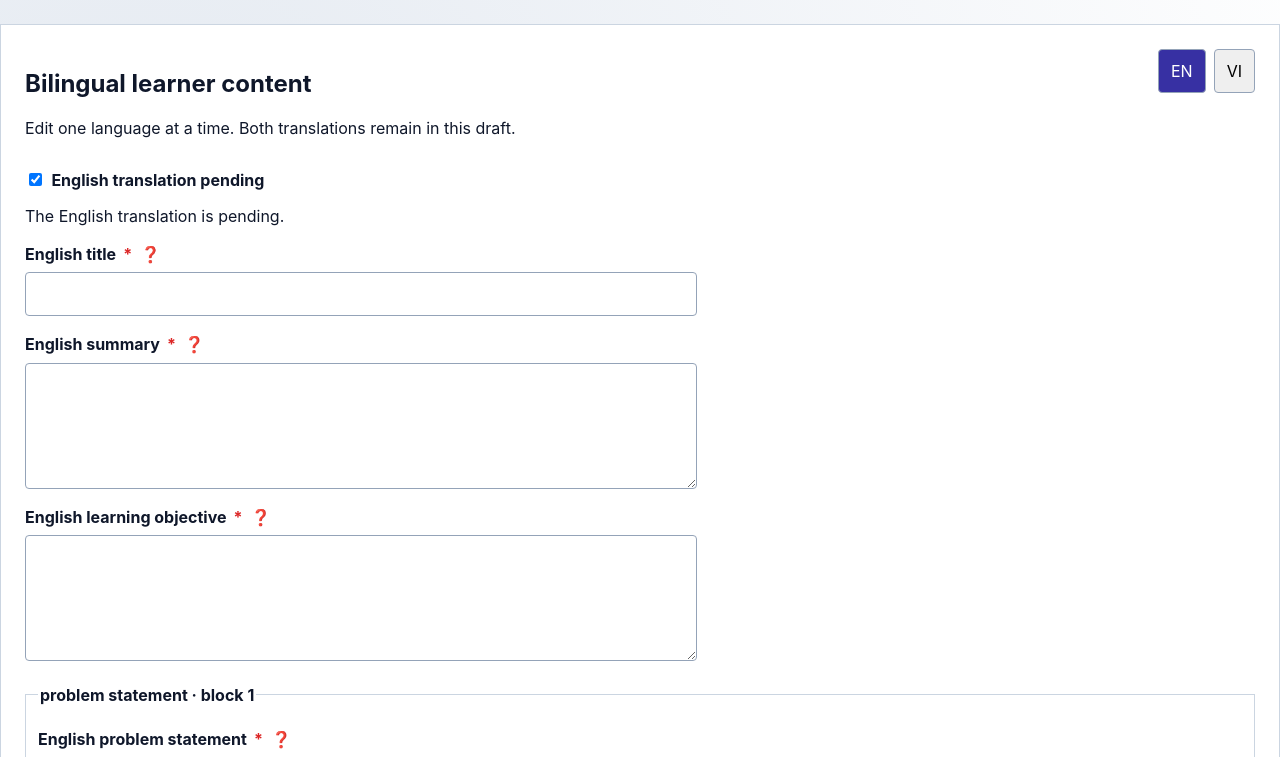
Test: bilingual structured content editor › marks a missing translation pending and exposes structured fields
The width and height of the screenshot is (1280, 757).
expect the text box labelled "English learning objective" is shown: met, box [25,535,697,661]
Click the button with aria-label "Edit Vietnamese" at (1234, 71), box [1214,49,1255,93]
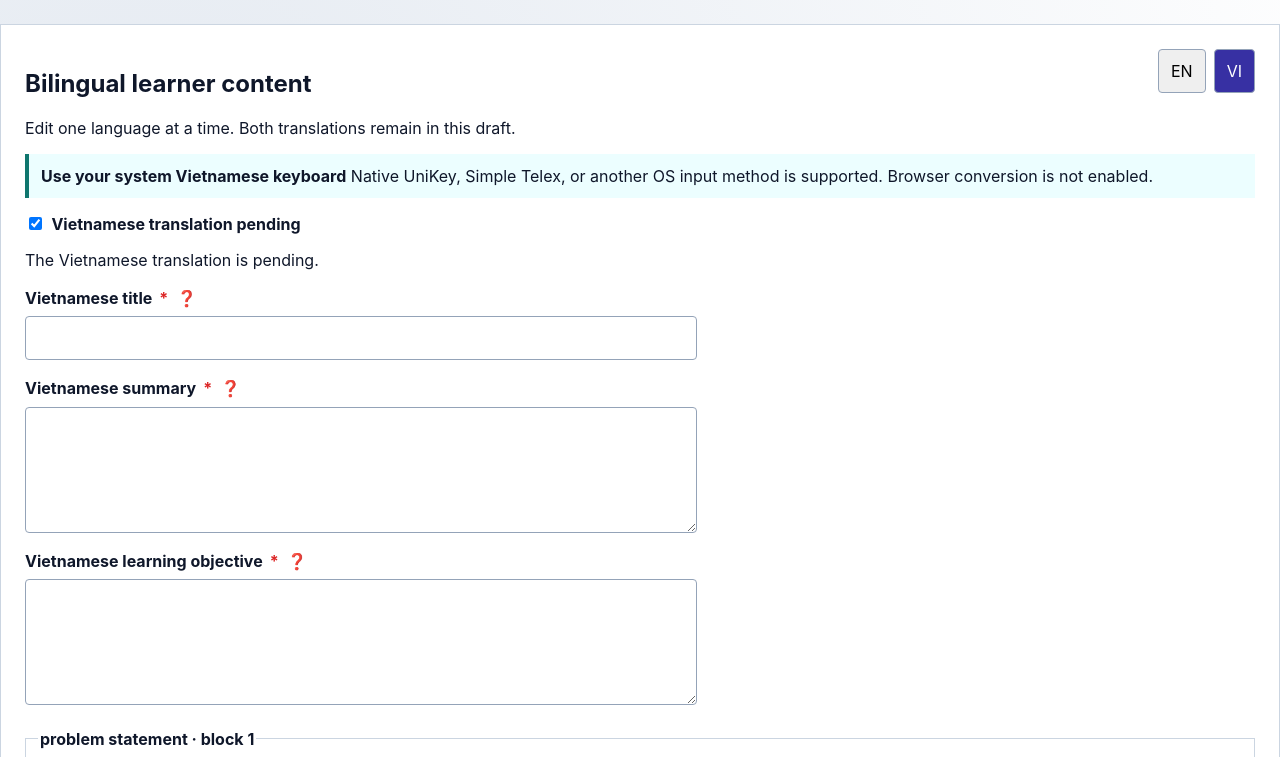
expect the checkbox labelled "Vietnamese translation pending" is shown: met, box [29,217,42,230]
expect the text "Use your system Vietnamese keyboard" is shown: met, box [41,166,346,186]
